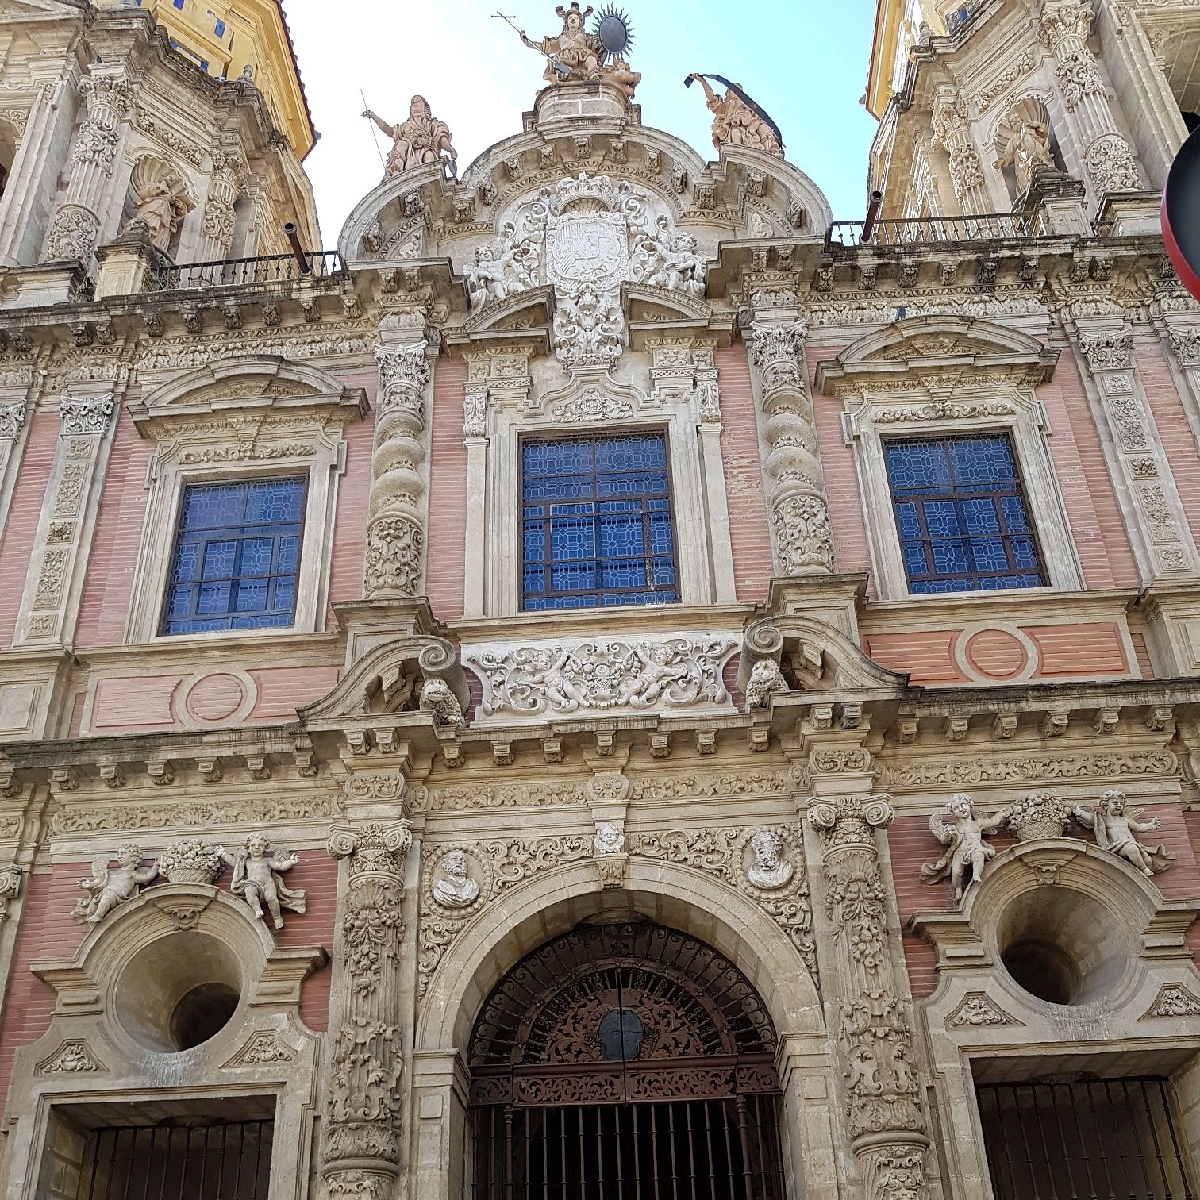arco-medio-punto: (423, 870, 820, 1095)
fronton-curvo: (135, 353, 371, 425), (823, 309, 1063, 379)
fronton-partido: (326, 615, 916, 752), (304, 148, 842, 270), (467, 280, 715, 353)
ojo-de-buey: (970, 845, 1165, 1021), (84, 912, 266, 1052)
vano-adintelado: (487, 385, 714, 618), (844, 386, 1081, 592), (134, 425, 344, 638)
